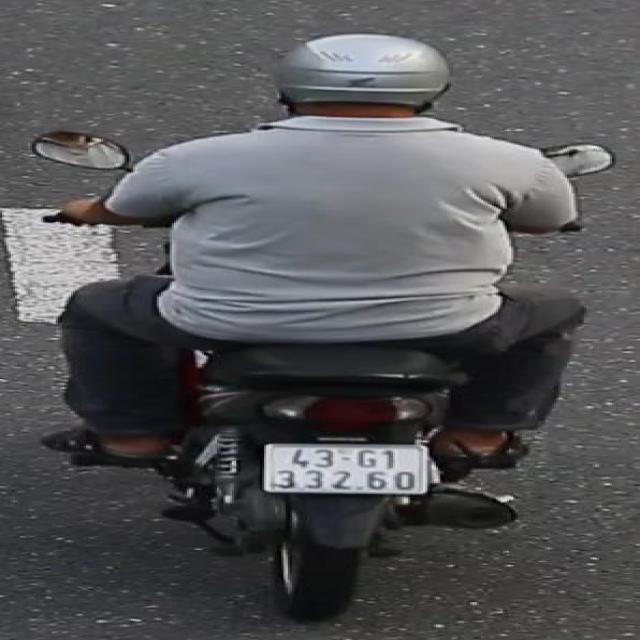LP: (253, 441, 436, 499)
helmet: (270, 28, 460, 135)
